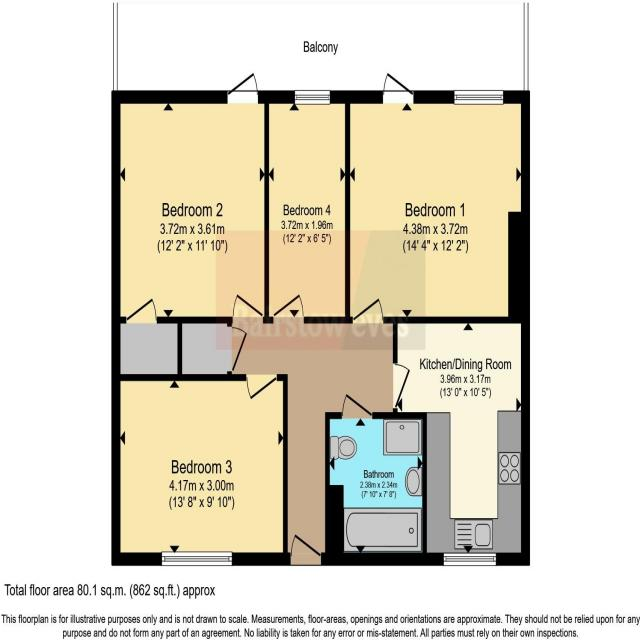DOOR: (289, 532, 323, 567), (226, 71, 259, 105), (382, 70, 415, 104), (272, 291, 306, 324), (232, 292, 265, 324), (351, 295, 385, 325), (245, 373, 278, 402), (125, 296, 159, 324), (393, 360, 412, 409)
ROOM: (344, 69, 531, 324), (111, 71, 270, 326), (110, 373, 289, 567), (392, 316, 530, 566), (264, 89, 351, 324)
WINDOW: (160, 550, 234, 567), (452, 86, 505, 107), (442, 551, 498, 568), (293, 89, 333, 106)
